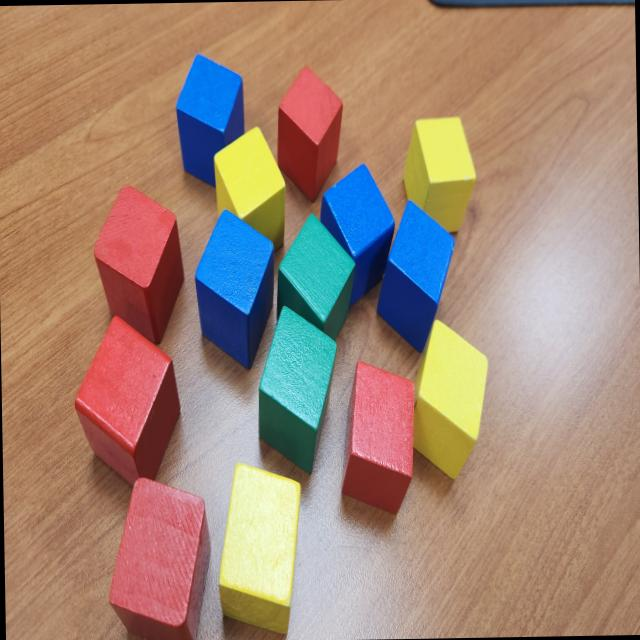blue: (194, 207, 276, 371), (373, 199, 458, 354), (317, 163, 396, 310), (173, 53, 246, 188)
green: (255, 304, 342, 476), (274, 210, 356, 341)
red: (73, 312, 184, 487), (107, 475, 213, 640), (92, 183, 185, 347), (337, 358, 419, 516), (274, 63, 344, 202)
yellow: (215, 462, 303, 636), (410, 318, 490, 482), (213, 126, 287, 250), (402, 116, 478, 236)
